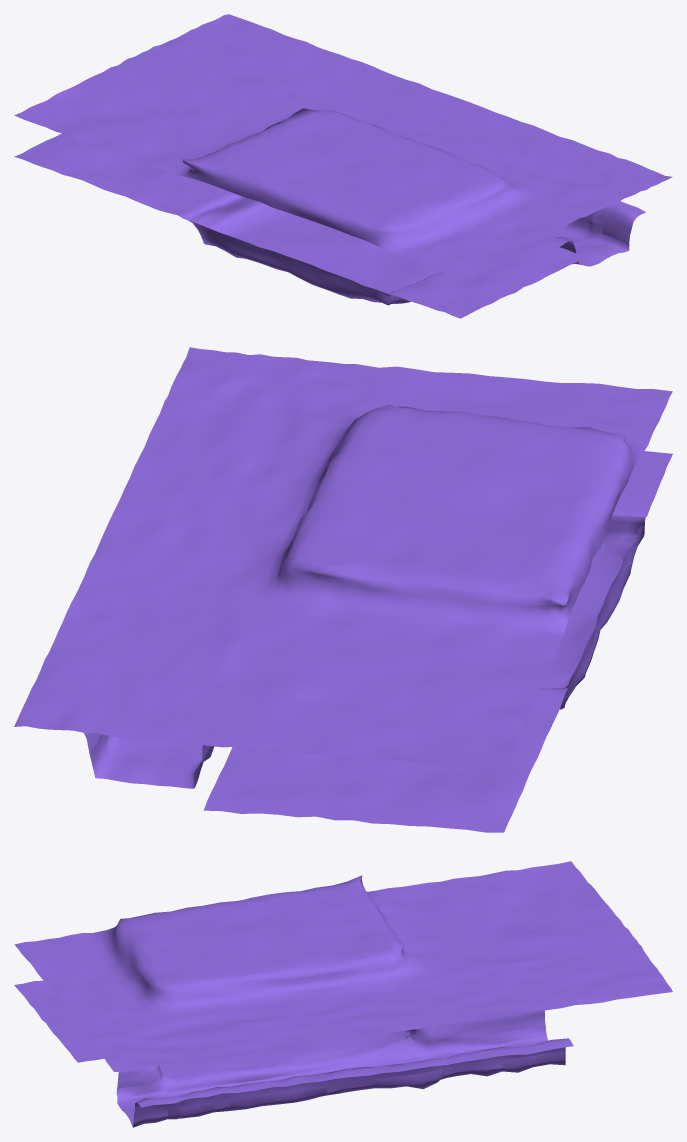
The model's file is Unique 7.fbx.
3 views of the same model, one above another, from view 1: azimuth 30°, elevation 25°; view 2: azimuth 150°, elevation 25°; view 3: azimuth 270°, elevation 25° (orthographic). The views are drawn at different scales.
Parts seen in each view (by area): view 1: Unique_007, Unique_007.001; view 2: Unique_007, Unique_007.001; view 3: Unique_007, Unique_007.001.
Part boxes in pixels (x1,y1,x2,y2): Unique_007: (14, 14, 672, 318); Unique_007.001: (204, 206, 629, 303); Unique_007: (14, 347, 672, 832); Unique_007.001: (89, 543, 622, 788); Unique_007: (14, 861, 672, 1120); Unique_007.001: (116, 1026, 565, 1127).
Size of the model in its own units: 953 by 195 by 1258.
